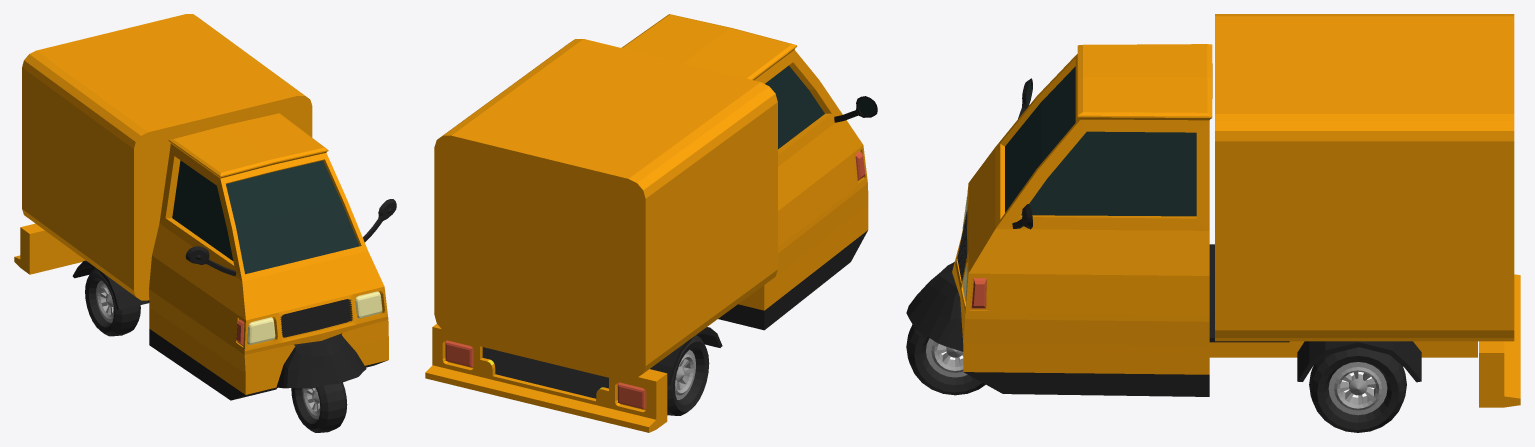
Rendered from Tempo.fbx.
3 views of the same model, side by side, from view 1: azimuth 30°, elevation 25°; view 2: azimuth 150°, elevation 25°; view 3: azimuth 270°, elevation 25° (orthographic). The views are drawn at different scales.
Visible parts, largest first — view 1: body, Front Wheel, Backright Wheel.002; view 2: body, Backright Wheel.002; view 3: body, Backleft Wheel.002, Front Wheel.
Part boxes in pixels (<box>): body: <box>14,14,396,400</box>; Front Wheel: <box>291,382,347,432</box>; Backright Wheel.002: <box>85,268,140,336</box>; body: <box>425,14,877,432</box>; Backright Wheel.002: <box>667,335,709,415</box>; body: <box>906,14,1520,407</box>; Backleft Wheel.002: <box>1309,347,1406,432</box>; Front Wheel: <box>906,324,985,395</box>.
Bounding box in the file's own units: 82.93 × 91.72 × 156.
4 materials, 1 textured.
